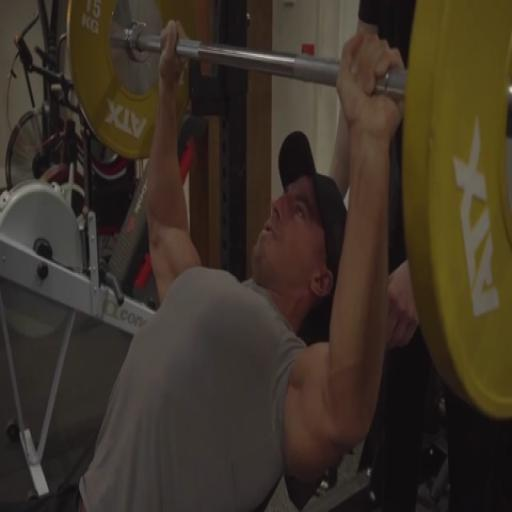exercise: (0, 18, 406, 510)
